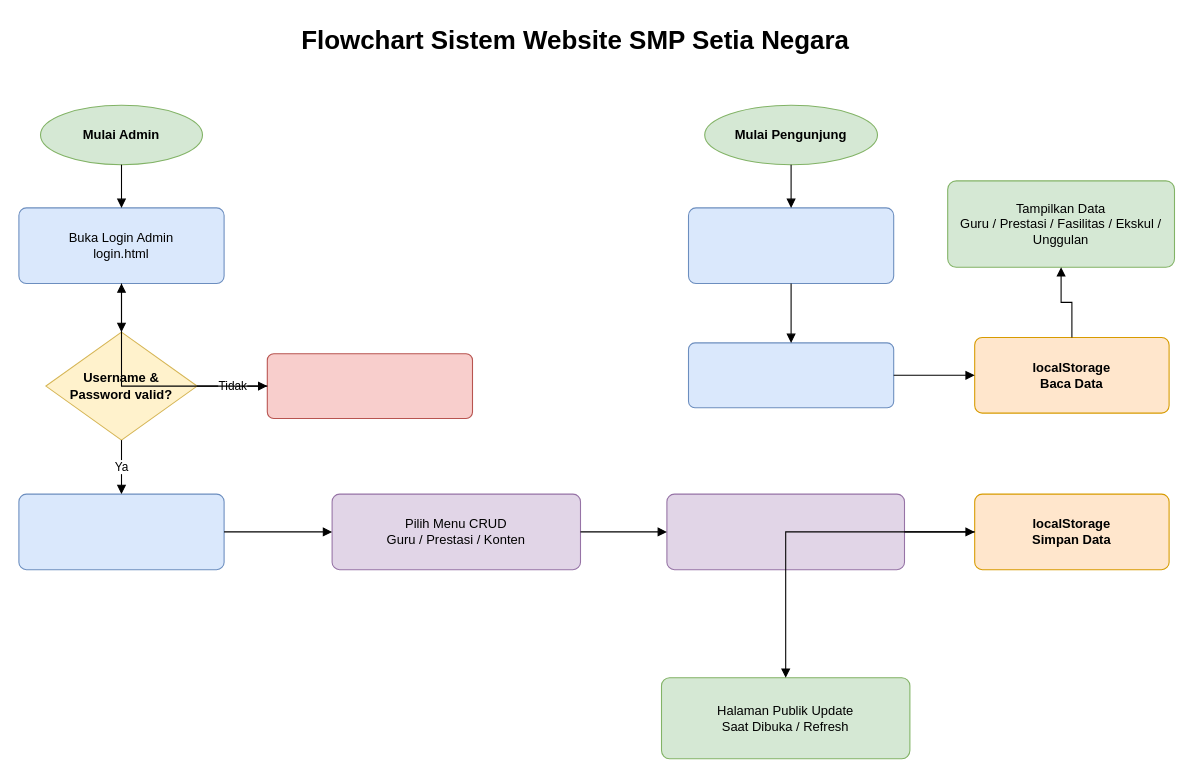
Image size: 1193x778. Some labels were removed from this diagram. Here are the shapes that lost their labels. From the top down, the centre of each, then its label:
At pixel 790 245: "Buka Website Utama index.html".
At pixel 369 385: "Tampilkan pesan error".
At pixel 790 375: "Pilih Halaman Informasi".
At pixel 121 531: "Masuk Dashboard dashboard.html".
At pixel 785 531: "Tambah / Edit / Hapus Data".
